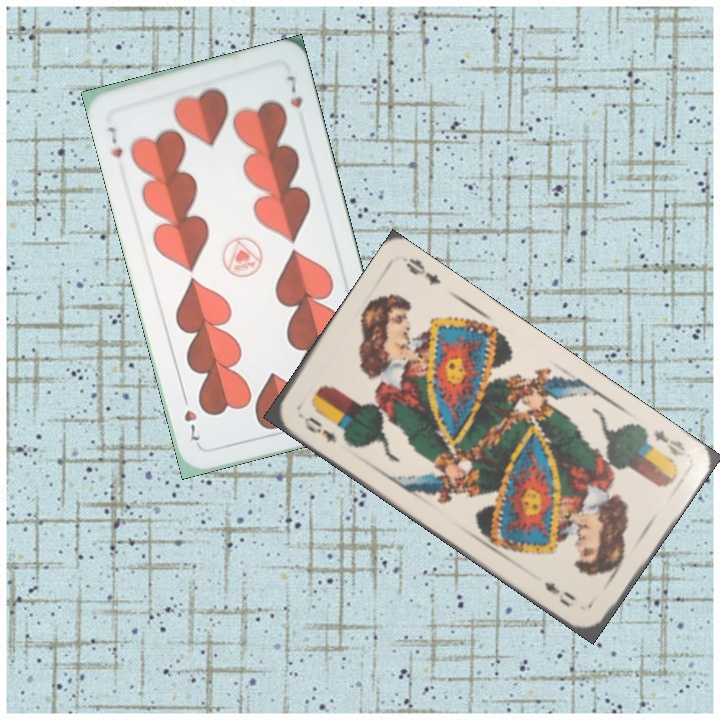EO: (295, 409, 339, 446), (649, 425, 689, 459)
H7: (103, 122, 125, 160)
